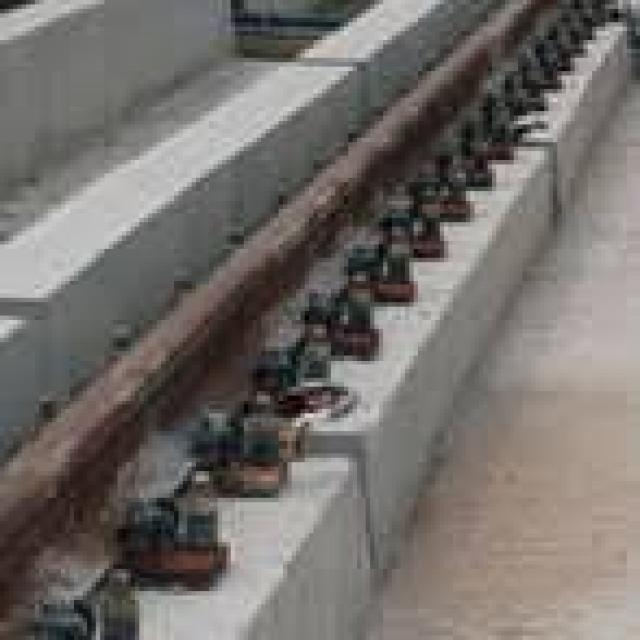curb: (1, 151, 219, 401), (251, 460, 442, 632), (363, 296, 506, 430), (231, 60, 330, 222), (341, 1, 496, 99), (543, 52, 628, 202), (472, 155, 556, 306)
